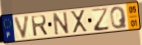N: (51, 10, 70, 36)
Q: (109, 5, 129, 30)
R: (30, 14, 49, 38)
V: (13, 14, 32, 40)
X: (69, 9, 89, 35)
Z: (91, 7, 111, 33)
